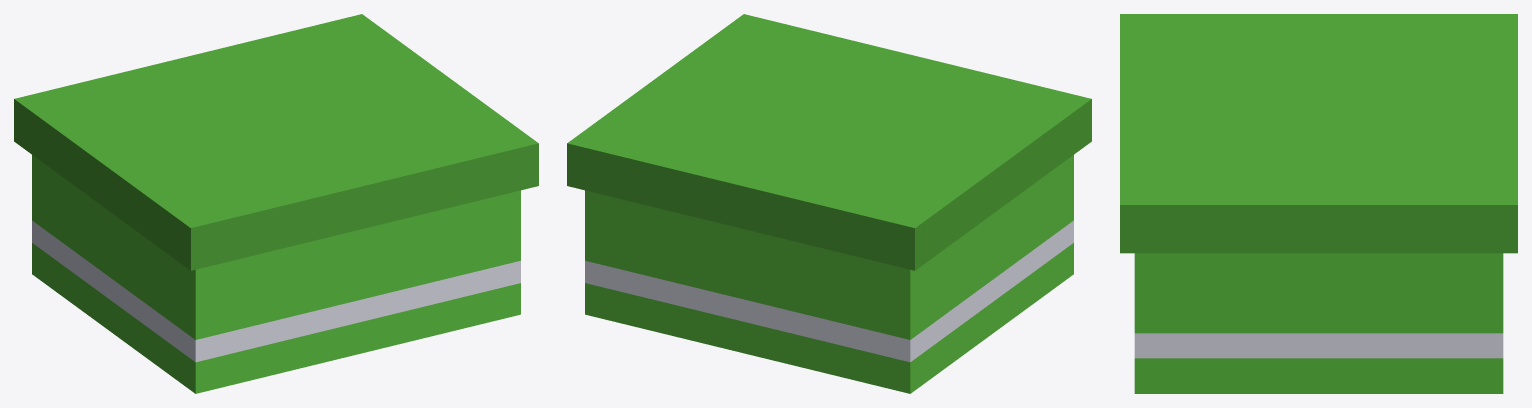
Rendered from Prop_SmallStorageBox_04.fbx.
3 views of the same model, side by side, from view 1: azimuth 30°, elevation 25°; view 2: azimuth 150°, elevation 25°; view 3: azimuth 270°, elevation 25° (orthographic). The views are drawn at different scales.
Visible parts, largest first — view 1: Prop_SmallStorageBox_04; view 2: Prop_SmallStorageBox_04; view 3: Prop_SmallStorageBox_04.
Boxes of the visible parts, <box> form: Prop_SmallStorageBox_04: <box>14,14,538,393</box>; Prop_SmallStorageBox_04: <box>567,14,1091,393</box>; Prop_SmallStorageBox_04: <box>1120,14,1517,393</box>.
Bounding box in the file's own units: 34.58 × 16.45 × 30.41.
